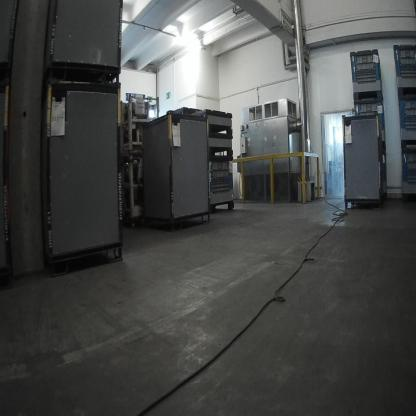stillage: (119, 92, 165, 146), (120, 155, 147, 222)
